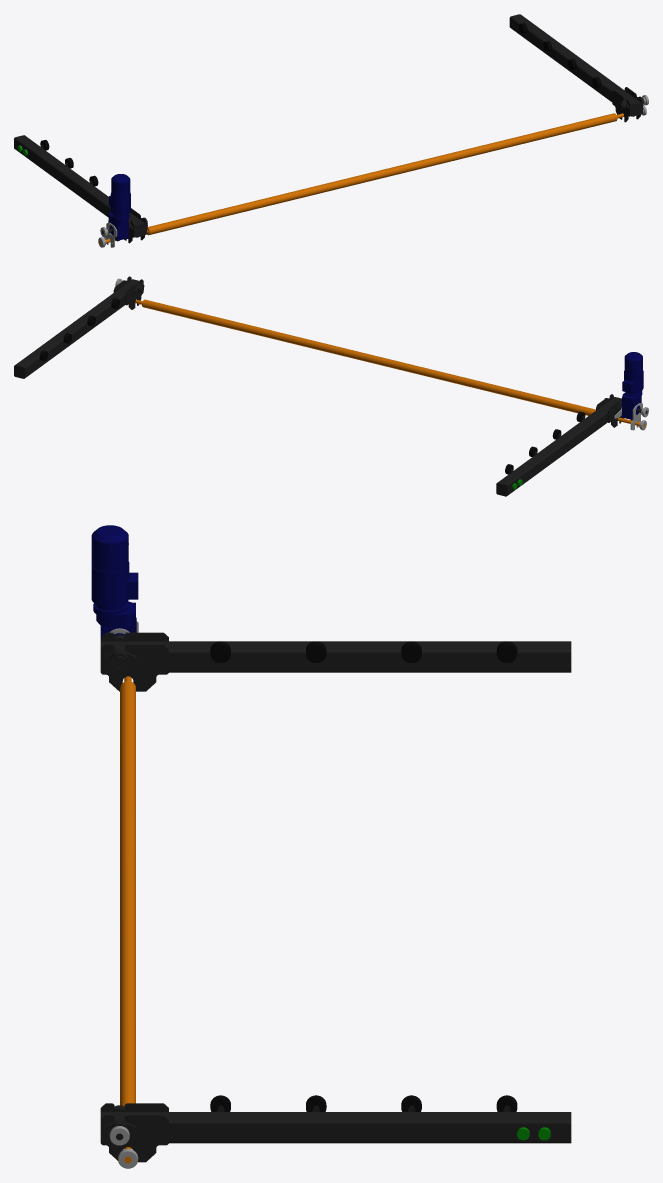
File: SHELF-U-1.obj
3 renders of one model, top to bottom at view 1: azimuth 30°, elevation 25°; view 2: azimuth 150°, elevation 25°; view 3: azimuth 270°, elevation 25°, orthographic. The views are drawn at different scales.
Parts seen in each view (by area): view 1: Mesh; view 2: Mesh; view 3: Mesh.
Part boxes in pixels (left/top/right/bottom): Mesh: left=14, top=14, right=648, bottom=247; Mesh: left=14, top=276, right=648, bottom=496; Mesh: left=91, top=525, right=571, bottom=1168.
Size of the model in its own units: 5785 by 723 by 2273.
